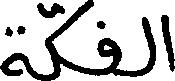X: (46, 0, 92, 80), (0, 21, 28, 80), (97, 16, 121, 80), (141, 12, 154, 80), (163, 10, 174, 76)
